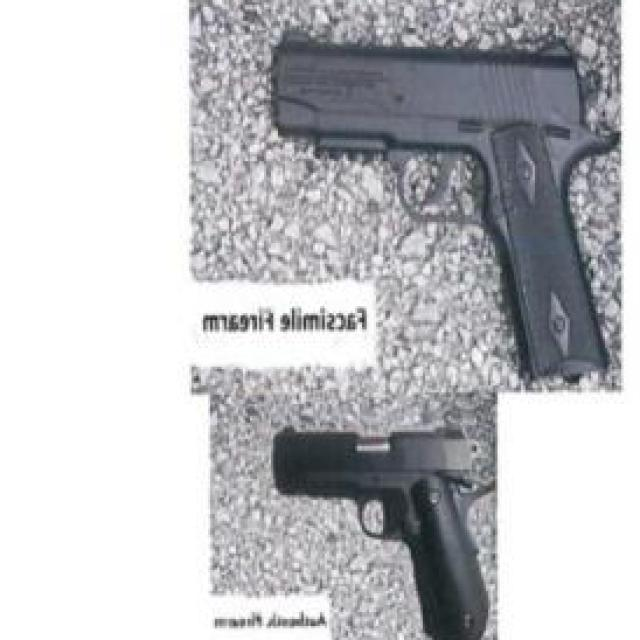pistol: (276, 16, 612, 390), (269, 404, 488, 640)
